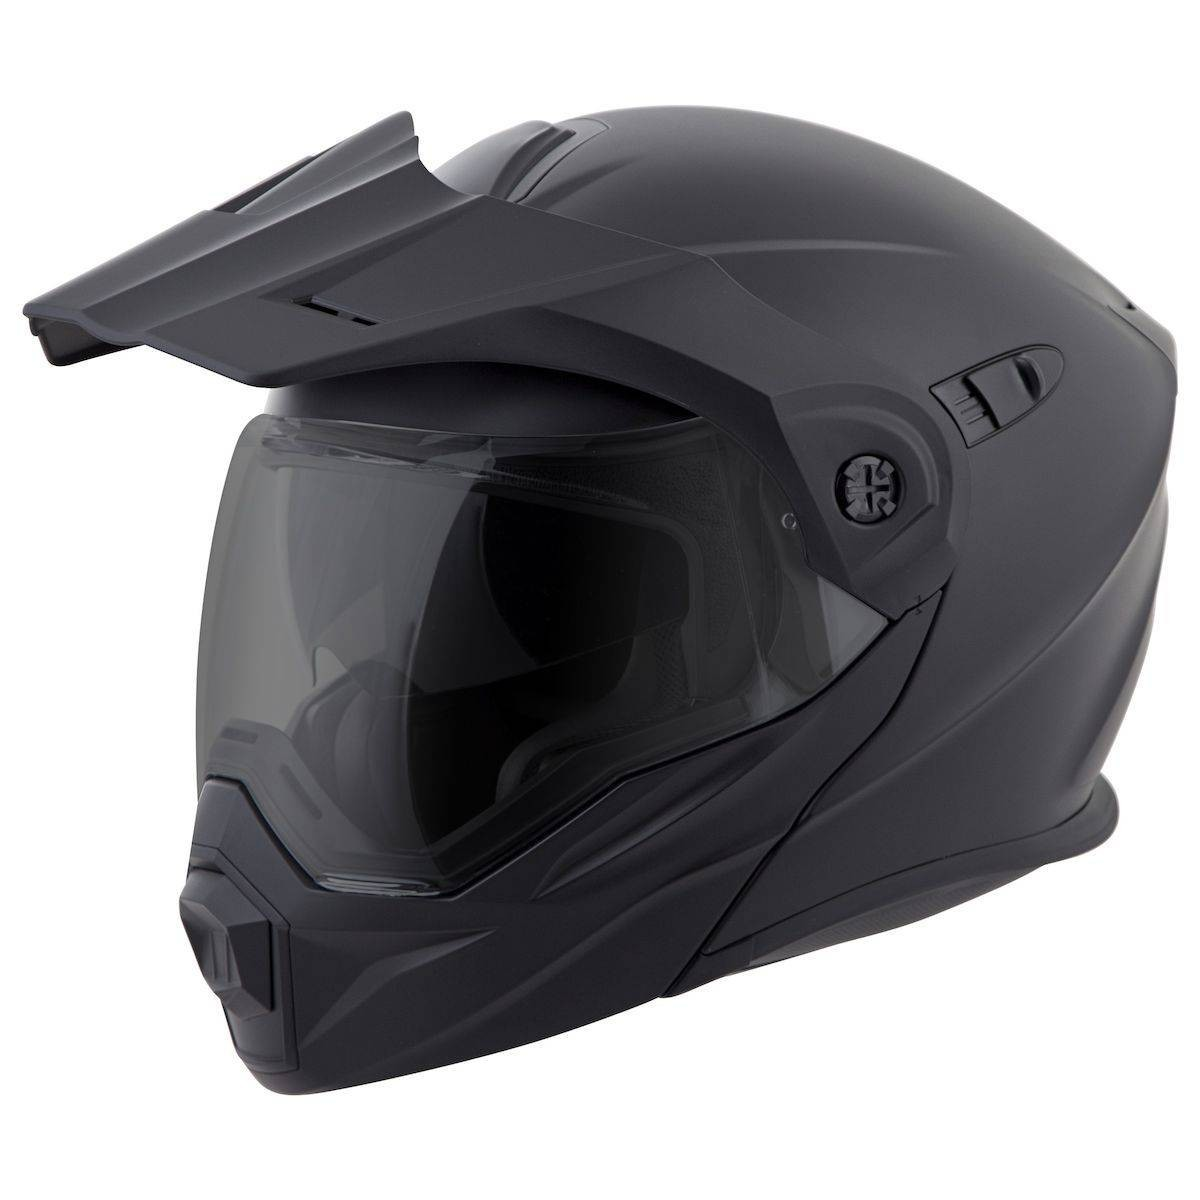with_helmet: (14, 95, 1195, 1103)
